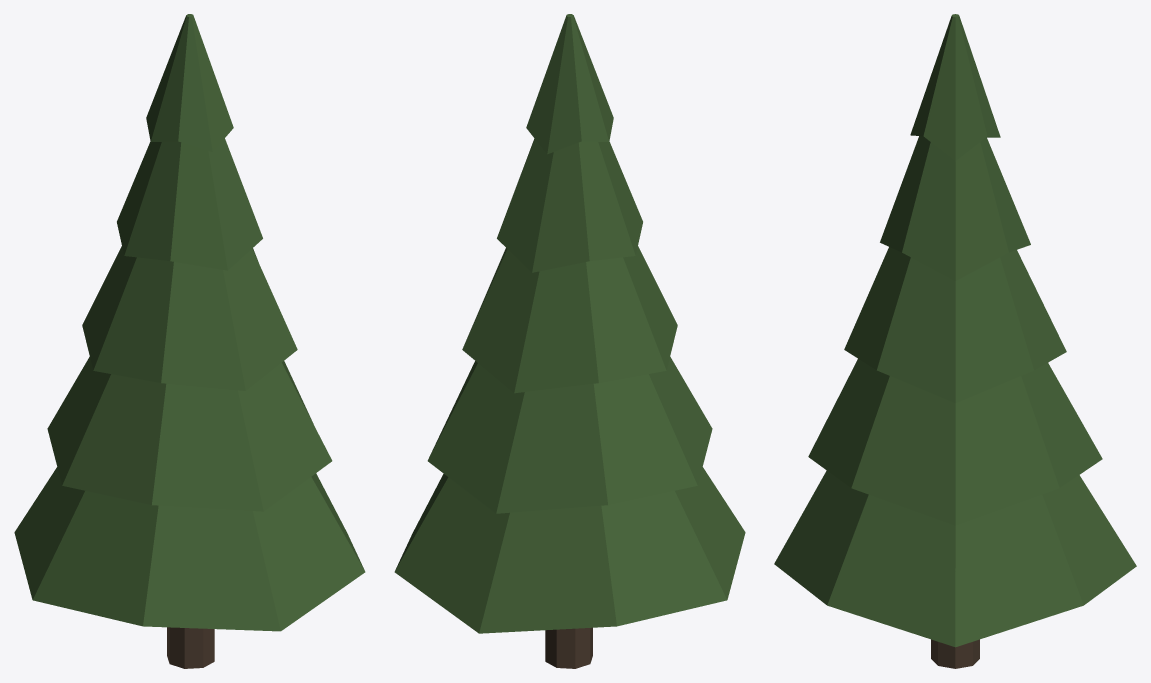
Rendered from tree2.fbx.
3 views of the same model, side by side, from view 1: azimuth 30°, elevation 25°; view 2: azimuth 150°, elevation 25°; view 3: azimuth 270°, elevation 25° (orthographic).
Parts seen in each view (by area): view 1: tree2; view 2: tree2; view 3: tree2.
Part boxes in pixels (x1,y1,x2,y2): tree2: (14,14,365,668); tree2: (394,14,745,668); tree2: (774,14,1136,668).
Size of the model in its own units: 3.03 by 5.92 by 3.03.
Materials: 1 (1 with a texture image).
